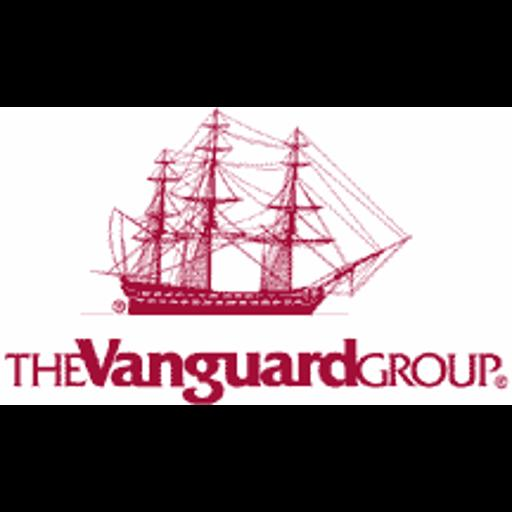The Vanguard Group: (0, 107, 512, 405)
